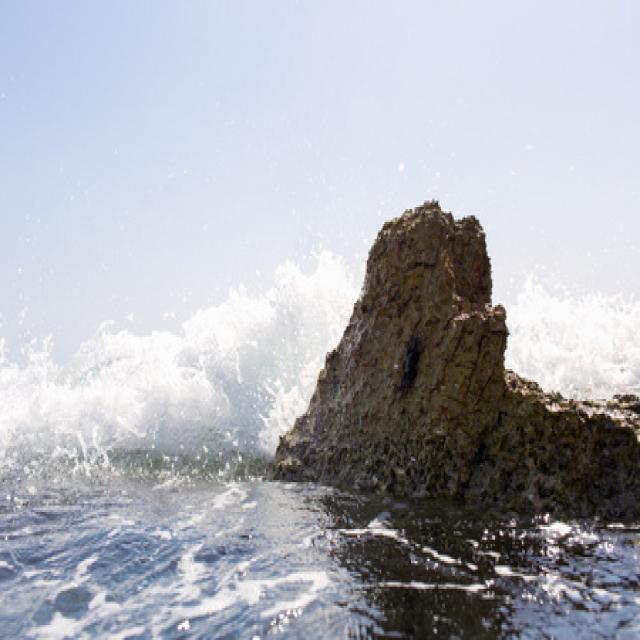reef: (269, 183, 640, 528)
